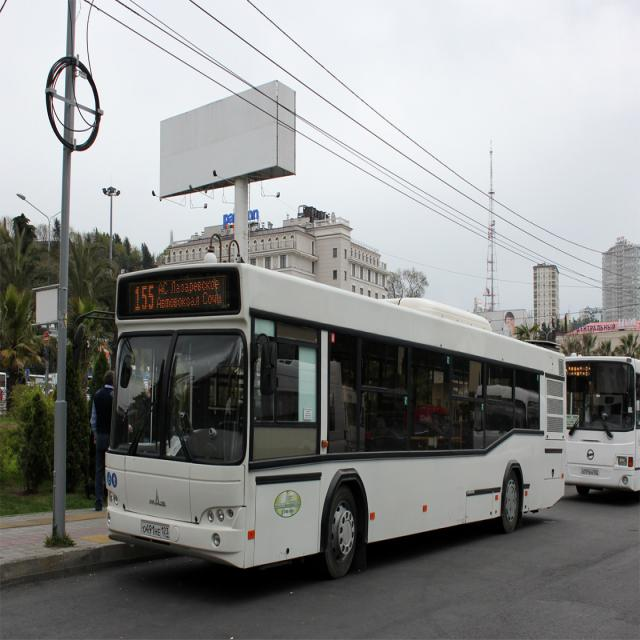number-of-bus: (134, 285, 156, 314)
